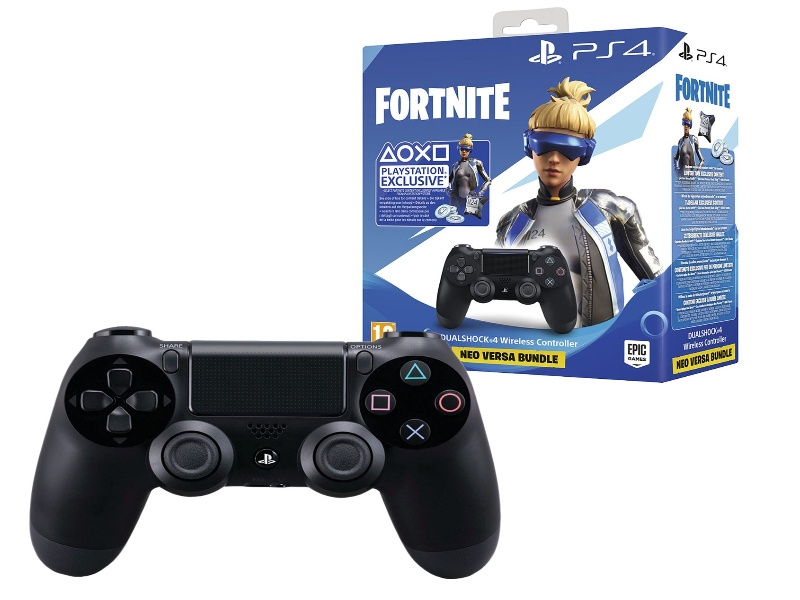ps4 joystick: (27, 325, 499, 580)
